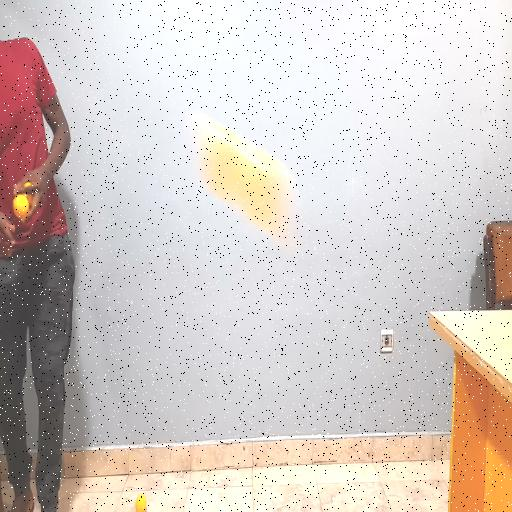plastic-ball: (200, 118, 298, 238)
